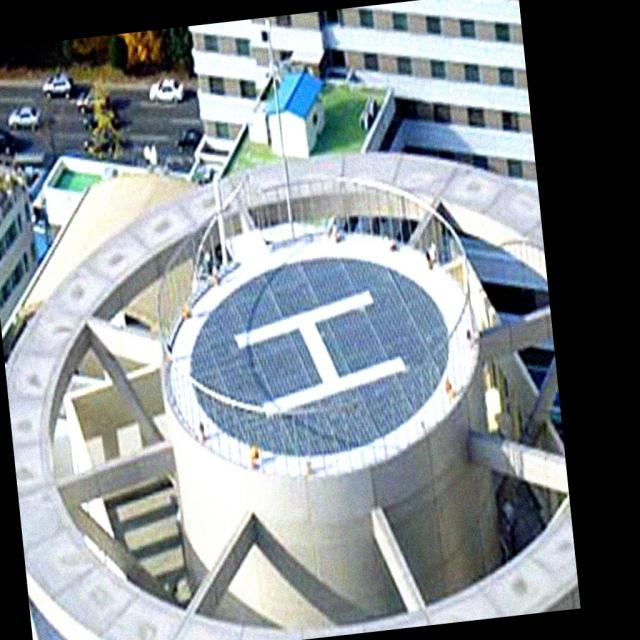helipad: (162, 223, 483, 486)
